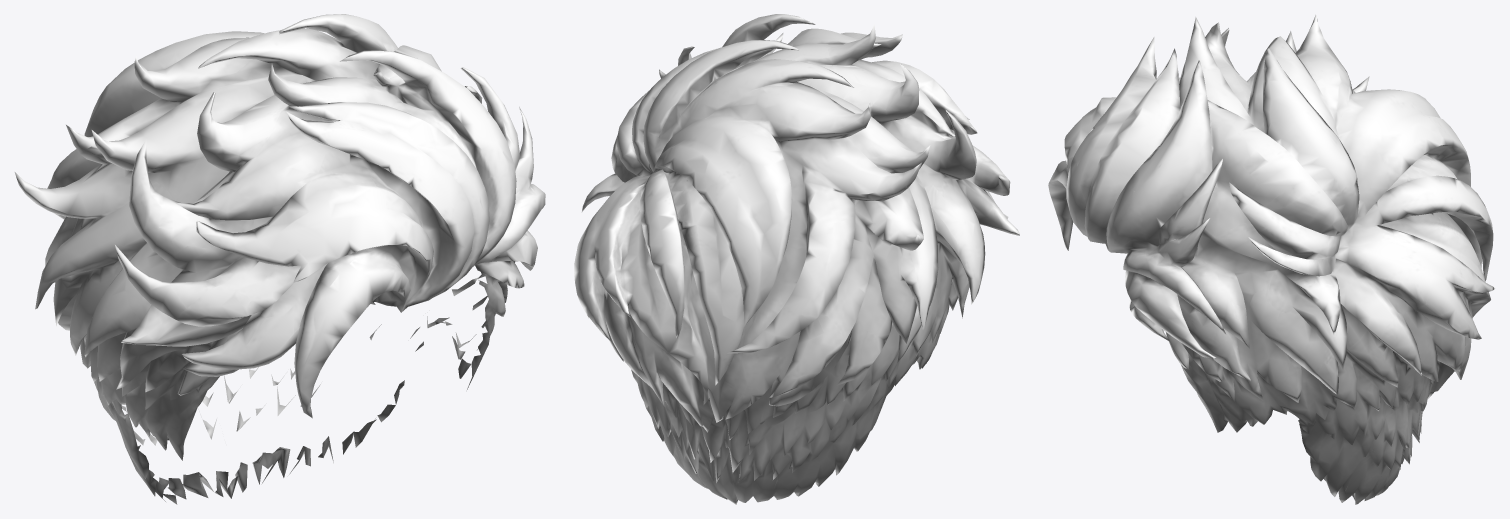
The model's file is hair-undercut.glb.
The picture shows the model from 3 angles, left to right: view 1: azimuth 30°, elevation 25°; view 2: azimuth 150°, elevation 25°; view 3: azimuth 270°, elevation 25°; orthographic projection. The views are drawn at different scales.
Visible parts, largest first — view 1: tripo_node_b83603d4-f459-458d-9be5-dc41f9846668; view 2: tripo_node_b83603d4-f459-458d-9be5-dc41f9846668; view 3: tripo_node_b83603d4-f459-458d-9be5-dc41f9846668.
Part boxes in pixels (x1=…): tripo_node_b83603d4-f459-458d-9be5-dc41f9846668: x1=14, y1=14, x2=545, y2=504; tripo_node_b83603d4-f459-458d-9be5-dc41f9846668: x1=574, y1=14, x2=1019, y2=504; tripo_node_b83603d4-f459-458d-9be5-dc41f9846668: x1=1048, y1=14, x2=1495, y2=504.
Size of the model in its own units: 0.22 by 0.2511 by 0.2267.
1 material, 1 textured.
